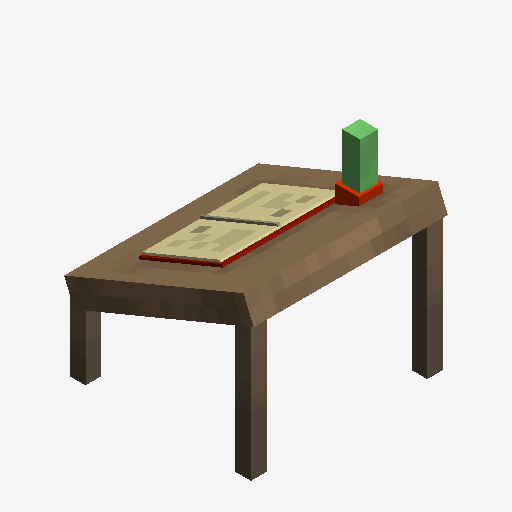
Isometric view (azimuth 45°, elevation 35.3°) of a Minecraft model made of 10 cuboids, textured from the same repository.
Visible parts, largest first — tabletop, paper, element 1, element 4, element 10, element 2, cover, element 9.
Boxes of the visible parts, box(x1,y1,x2,y2) form: tabletop: box(64, 163, 447, 326); paper: box(142, 183, 334, 262); element 1: box(235, 320, 266, 480); element 4: box(412, 218, 442, 378); element 10: box(342, 119, 377, 192); element 2: box(70, 297, 100, 384); cover: box(139, 197, 334, 267); element 9: box(335, 179, 382, 206).
Size of the model in its own units: 16.2 by 16.9 by 15.81.